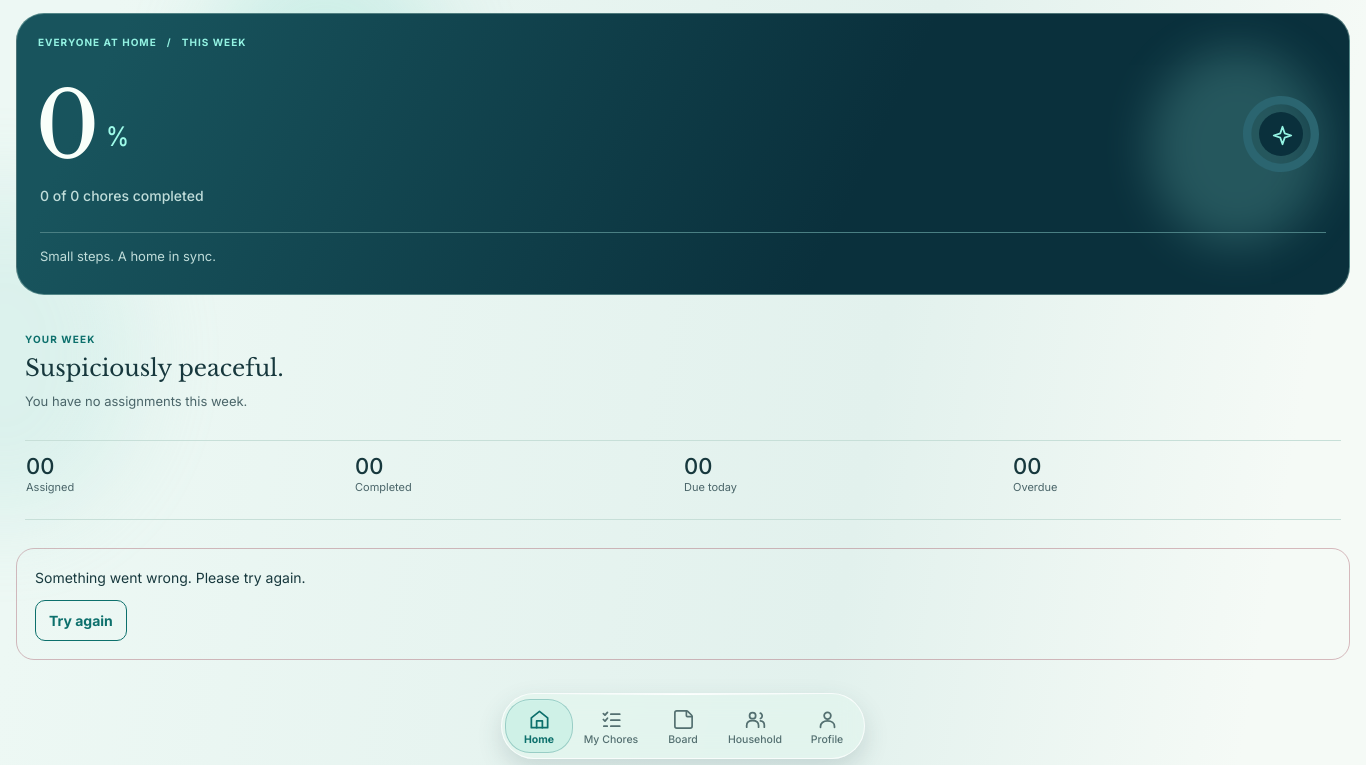
server-backed chore data › shows Dashboard's initial API error and recovers after retry
(page scrolled)
Expected: the message reads "Something went wrong. Please try again.", top-left (35, 569), bottom-right (306, 586)
Click the button "Try again". click: click(81, 621)
box: top-left (35, 600), bottom-right (127, 641)
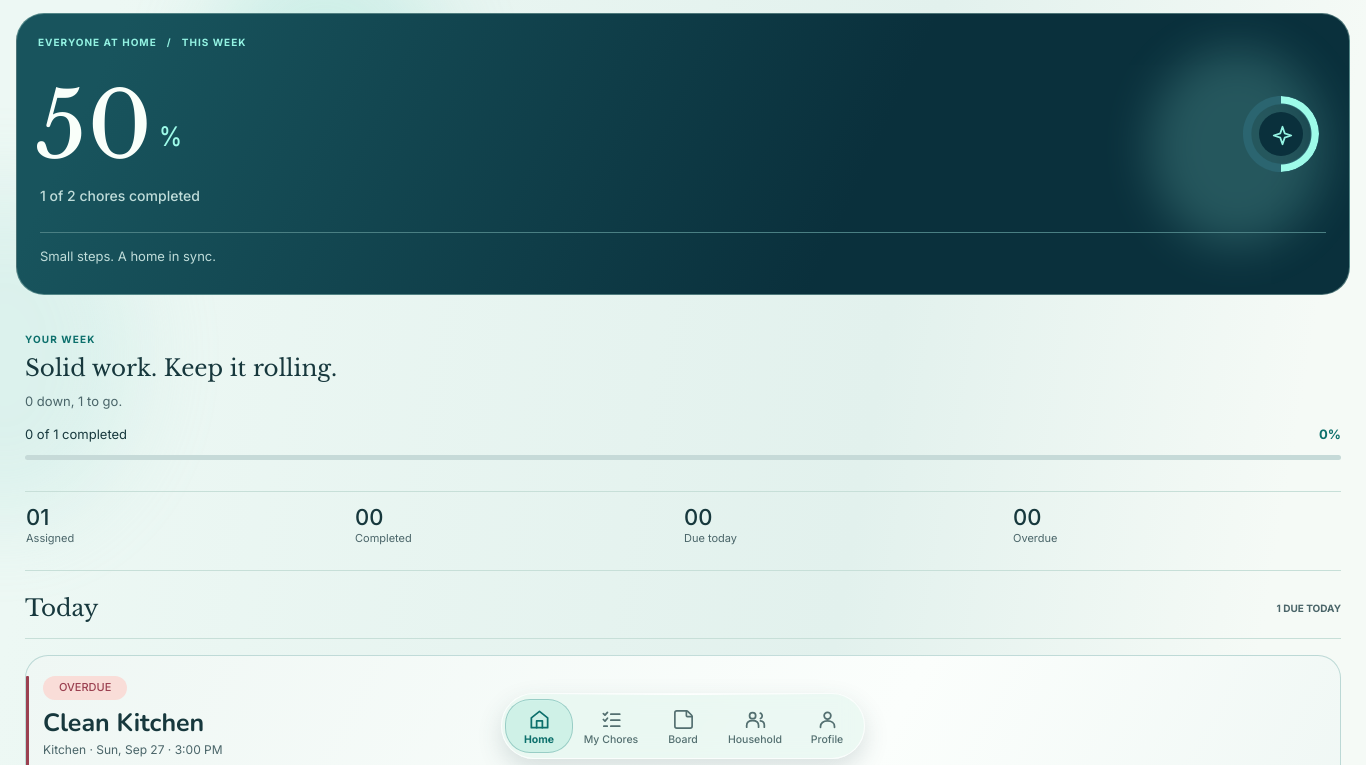
Now the heading "Today" is shown, box top-left (25, 595), bottom-right (98, 623)
Now the text "1 of 2 chores completed" is shown, box top-left (40, 187), bottom-right (200, 205)
